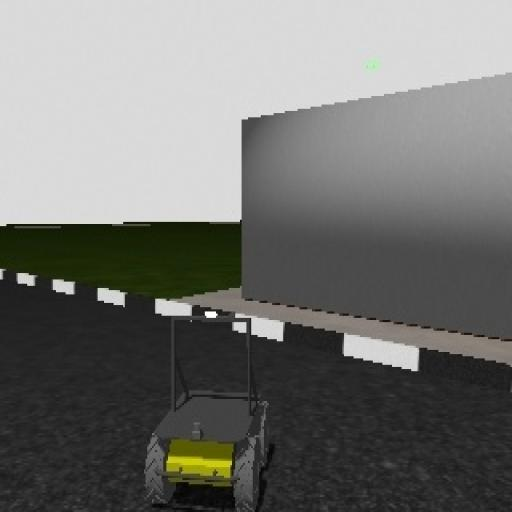huskya200: (142, 307, 274, 512)
